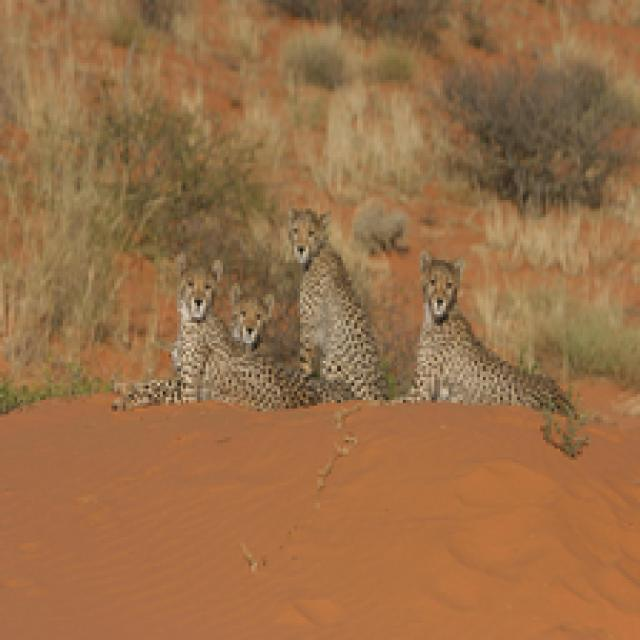cheetah: (419, 235, 612, 489), (136, 252, 324, 446), (258, 197, 414, 422), (216, 291, 354, 460)
